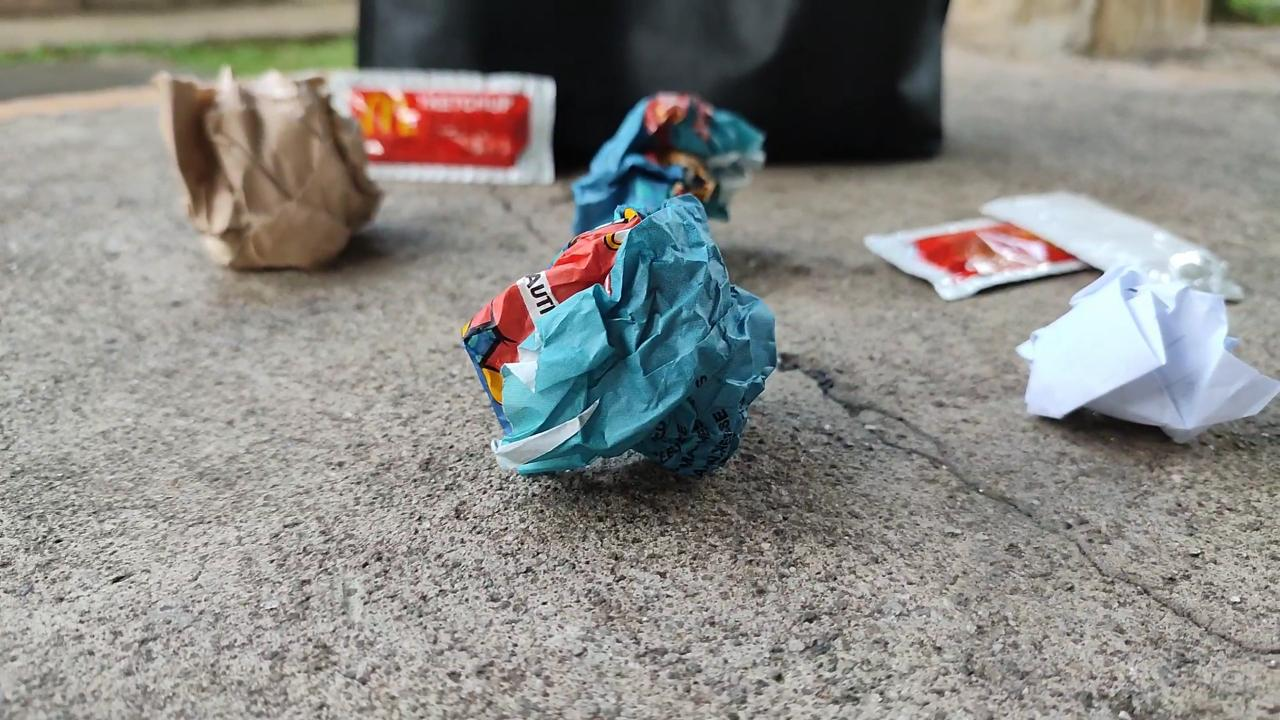Paper: (464, 196, 810, 484), (551, 54, 798, 264), (1016, 262, 1280, 451), (152, 84, 382, 278)
